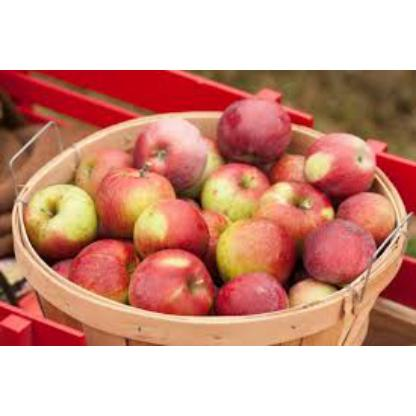apple: (138, 253, 214, 313), (264, 188, 348, 242), (122, 191, 206, 245), (219, 220, 291, 282), (99, 172, 173, 224), (27, 193, 101, 245), (199, 160, 271, 212), (145, 121, 207, 176), (231, 107, 291, 162), (310, 223, 370, 275), (314, 139, 370, 191), (231, 278, 289, 314), (348, 194, 394, 234), (71, 267, 125, 297), (274, 147, 322, 177)
